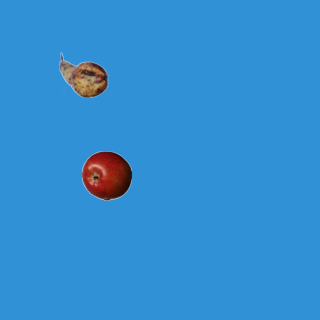Apple Braeburn: (81, 150, 131, 200)
Pear Abate: (58, 50, 108, 100)
